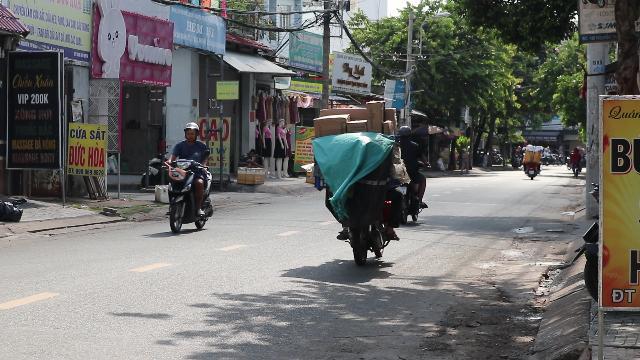helmet: (183, 121, 199, 142), (396, 125, 412, 139)
motorcyclist: (307, 99, 403, 266), (162, 121, 216, 235), (390, 124, 428, 224)
